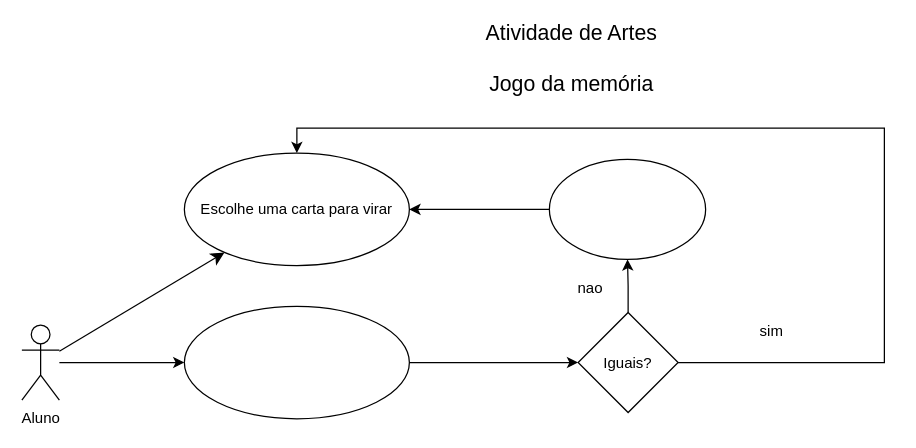
Image size: 916x448. Some labels were removed from this diagram. The centre of each missing label's shape, as x and y in pixels:
"Escolhe outra carta" belongs at [296,362].
"Vira as duas cartas novamente" belongs at [627,208].
